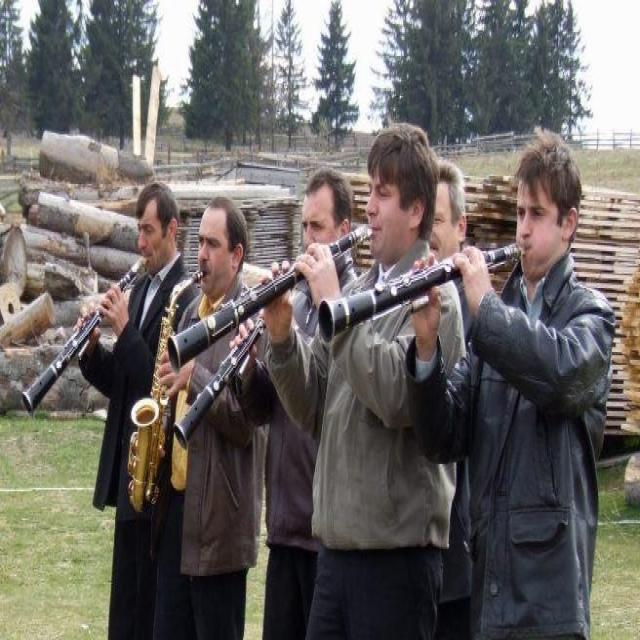saxophone: (127, 268, 206, 511)
